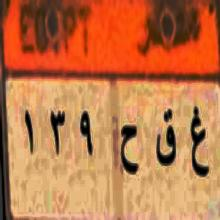1: (21, 109, 40, 159)
3: (46, 103, 68, 157)
7aa: (120, 111, 141, 182)
9: (80, 105, 96, 161)
ghayn: (188, 105, 210, 181)
qaaf: (153, 103, 178, 174)
